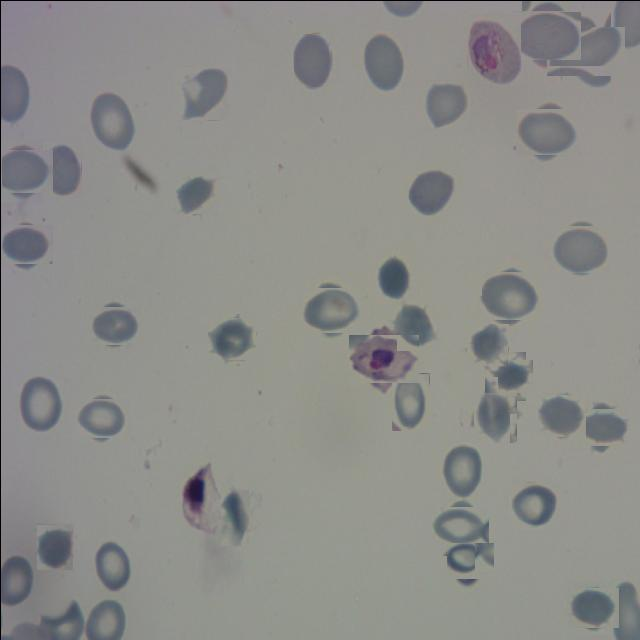gametocyte: (353, 328, 413, 388)
leukocyte: (554, 18, 618, 82), (516, 5, 576, 64), (481, 267, 536, 323), (88, 90, 136, 152), (519, 104, 574, 158), (552, 221, 606, 275), (175, 66, 228, 120), (305, 283, 358, 336), (18, 372, 64, 433), (361, 31, 405, 93), (438, 440, 482, 500), (0, 144, 48, 197), (407, 165, 457, 215), (421, 79, 470, 129), (470, 390, 519, 439), (510, 480, 558, 528), (436, 502, 484, 550), (42, 140, 82, 197), (391, 372, 429, 430), (92, 538, 131, 594), (1, 220, 48, 266), (78, 394, 124, 441), (209, 316, 255, 362), (538, 392, 584, 438), (569, 584, 615, 630), (91, 302, 136, 348), (578, 404, 624, 449), (293, 33, 331, 86), (394, 302, 438, 347), (448, 538, 491, 580), (373, 254, 411, 301), (176, 172, 218, 214), (466, 323, 508, 365), (36, 523, 73, 569), (488, 355, 529, 396), (220, 489, 248, 545)
schizont: (467, 14, 521, 86)
